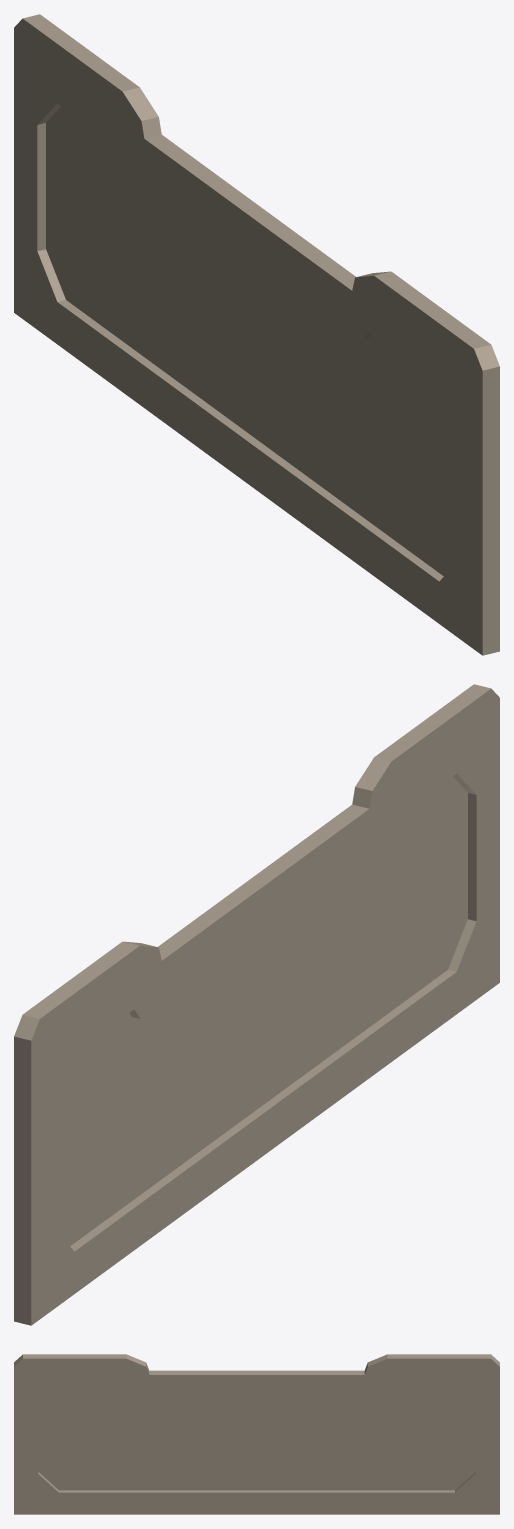
The model's file is SMOD_SkyroadBarrier.fbx.
3 renders of one model, top to bottom at view 1: azimuth 30°, elevation 25°; view 2: azimuth 150°, elevation 25°; view 3: azimuth 270°, elevation 25°, orthographic. The views are drawn at different scales.
Visible parts, largest first — view 1: SMOD_SkyroadBarrier; view 2: SMOD_SkyroadBarrier; view 3: SMOD_SkyroadBarrier.
Part boxes in pixels (left/top/right/bottom): SMOD_SkyroadBarrier: left=14, top=14, right=499, bottom=655; SMOD_SkyroadBarrier: left=14, top=684, right=499, bottom=1325; SMOD_SkyroadBarrier: left=14, top=1354, right=499, bottom=1514.
Bounding box in the file's own units: 21.42 × 354 × 1000.
